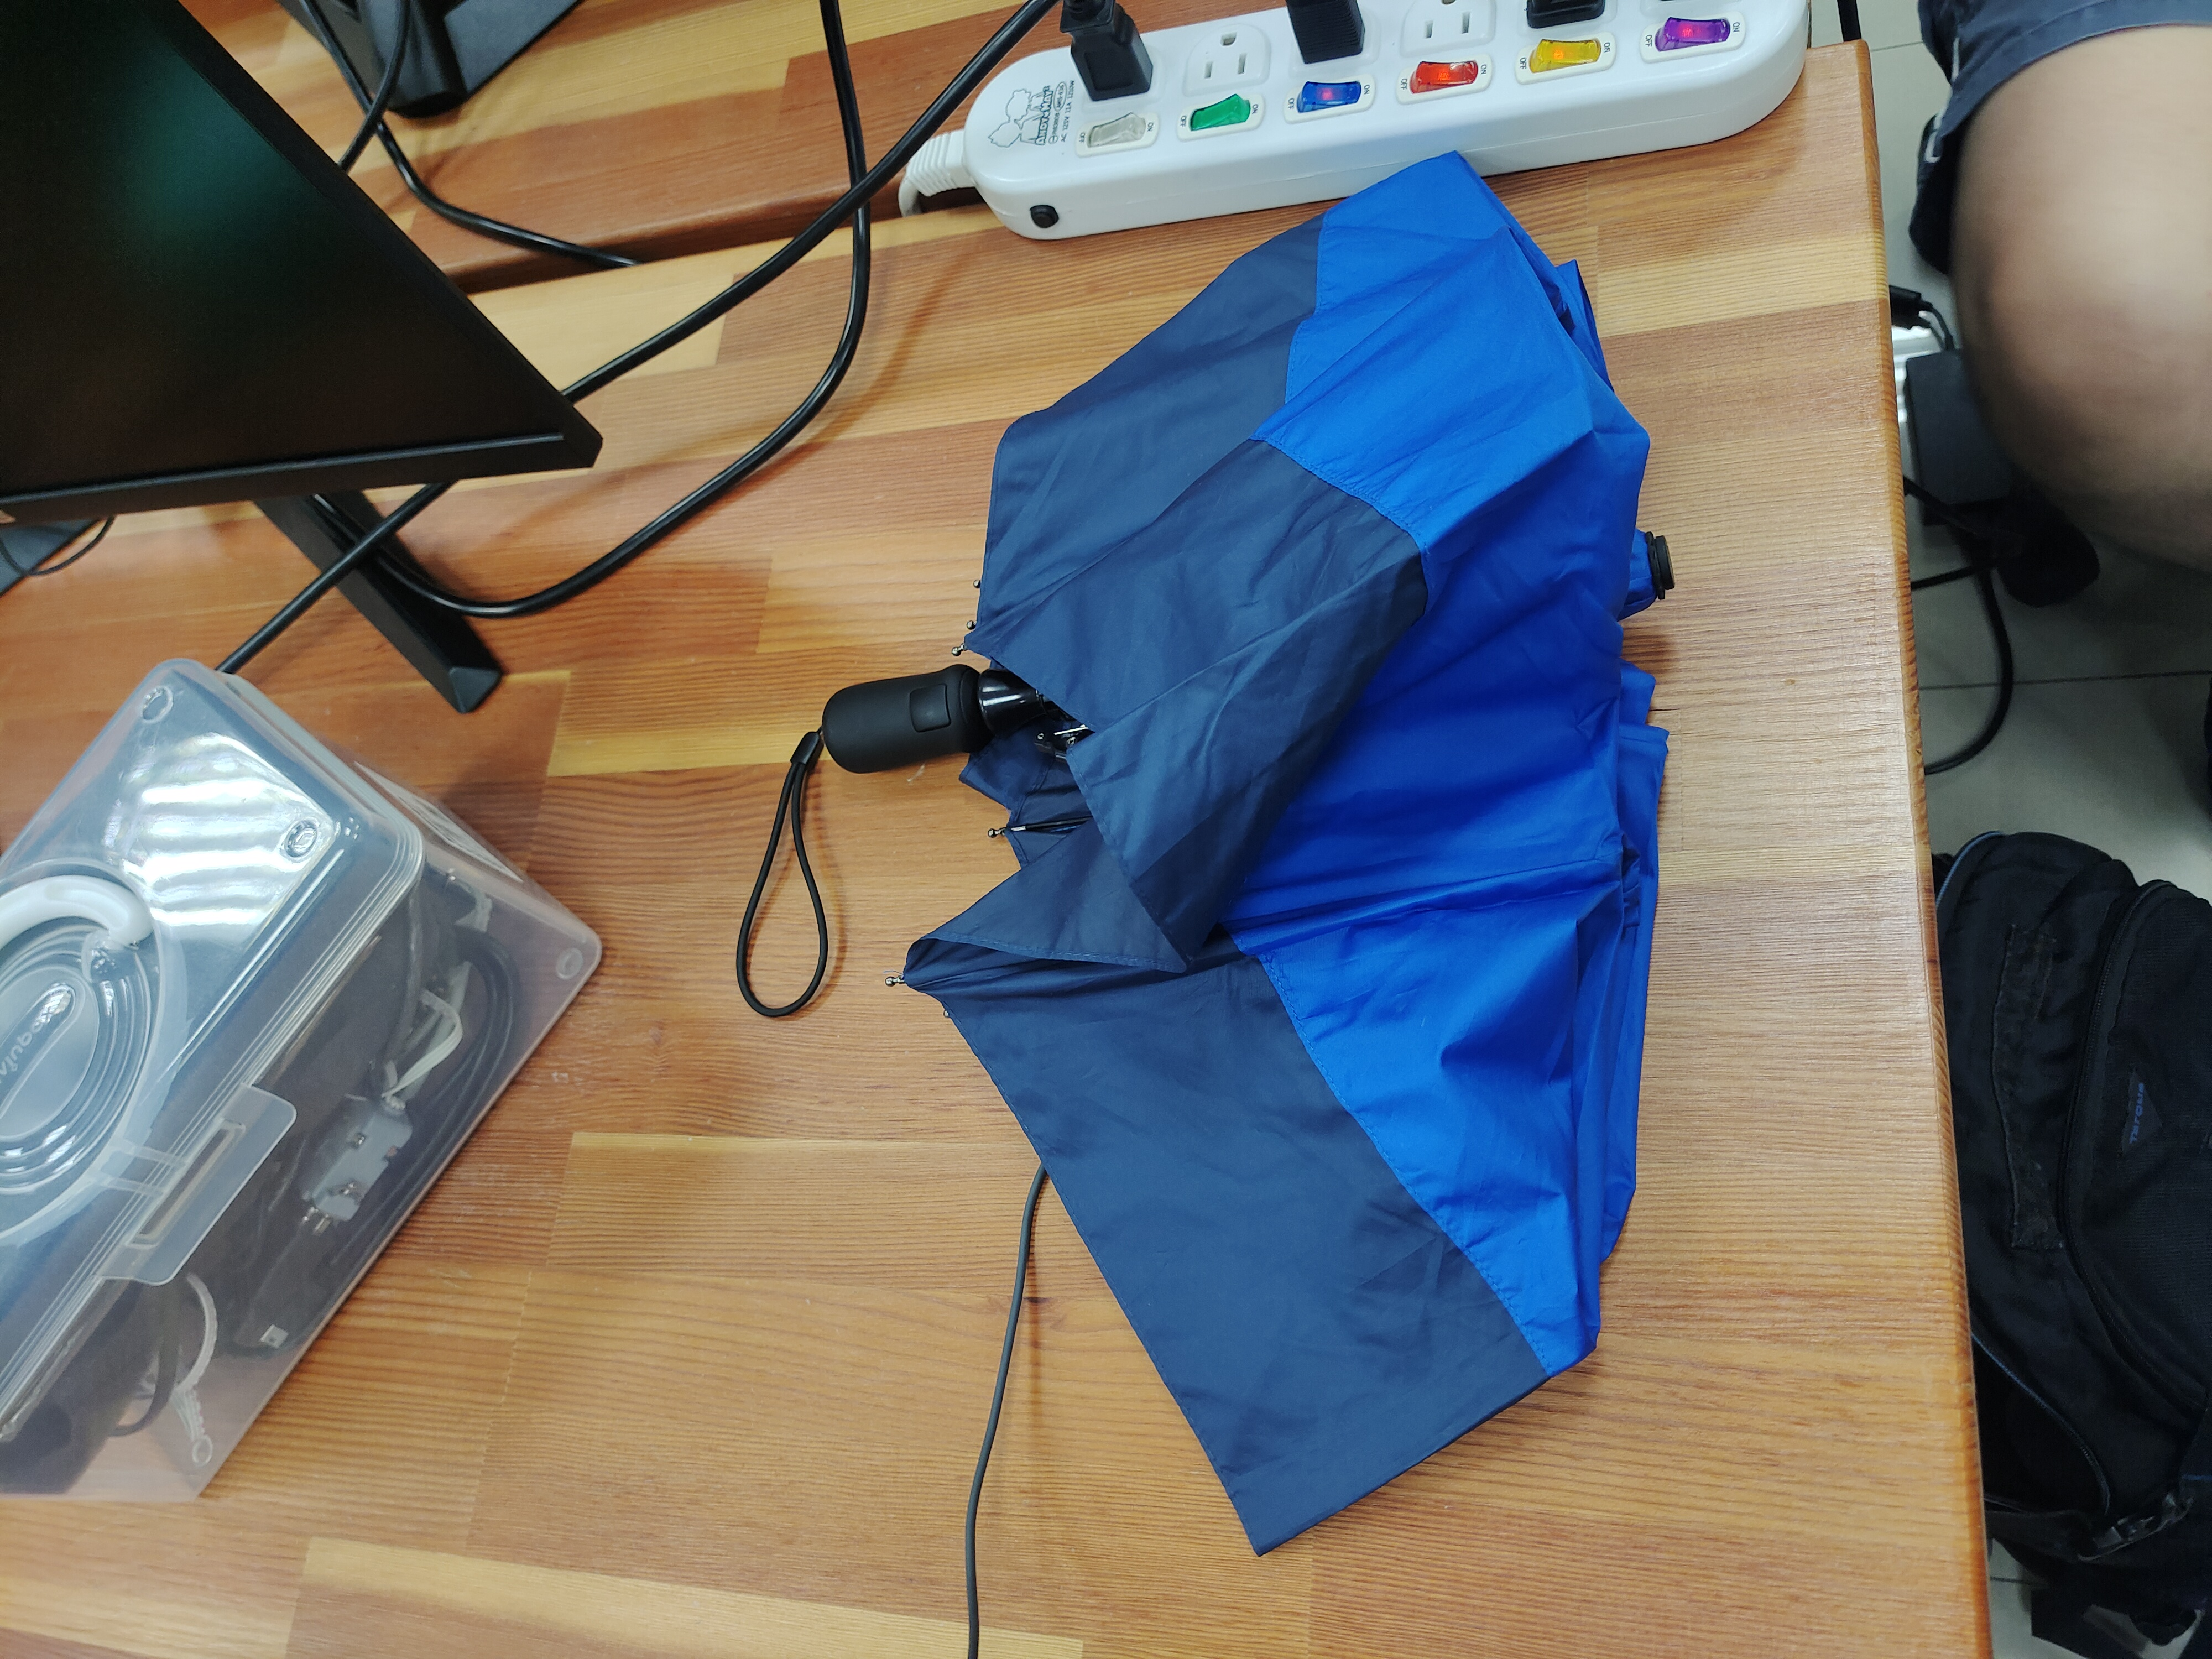umbrella: (709, 157, 1714, 1556)
